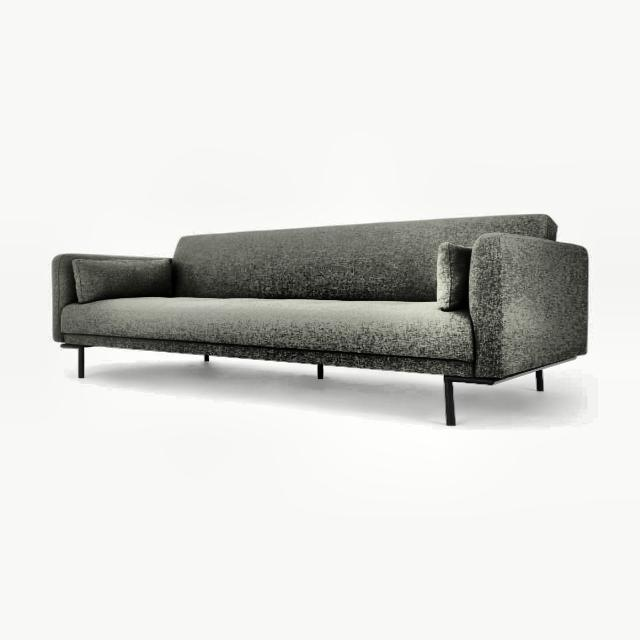sofa: (50, 214, 591, 427)
